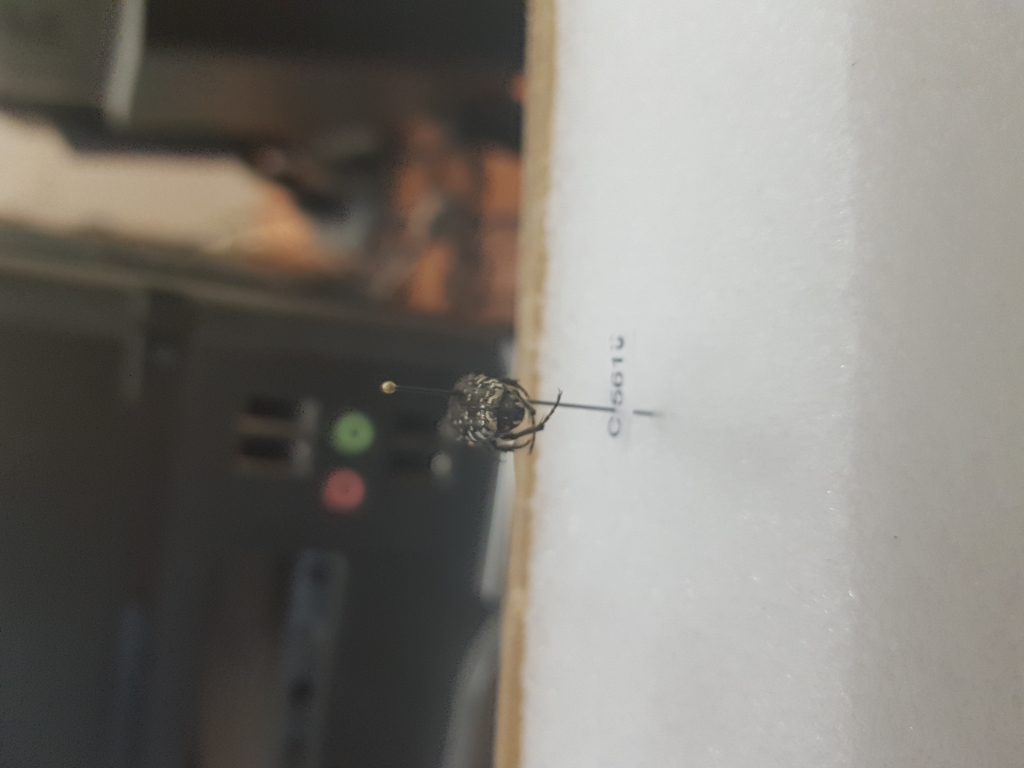Oxythyrea_funesta: (433, 368, 571, 450)
